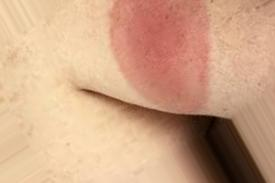Tick: (110, 0, 208, 105)
